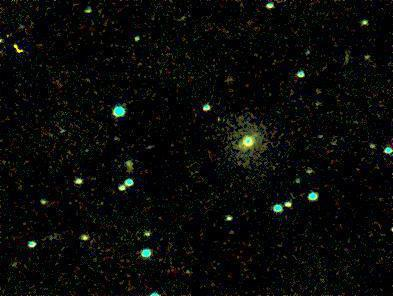star: (204, 104, 234, 134)
